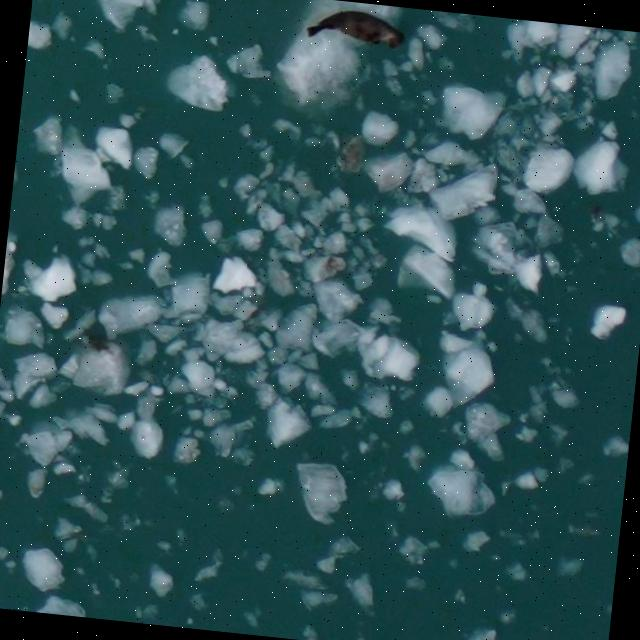seal: (306, 9, 402, 48)
